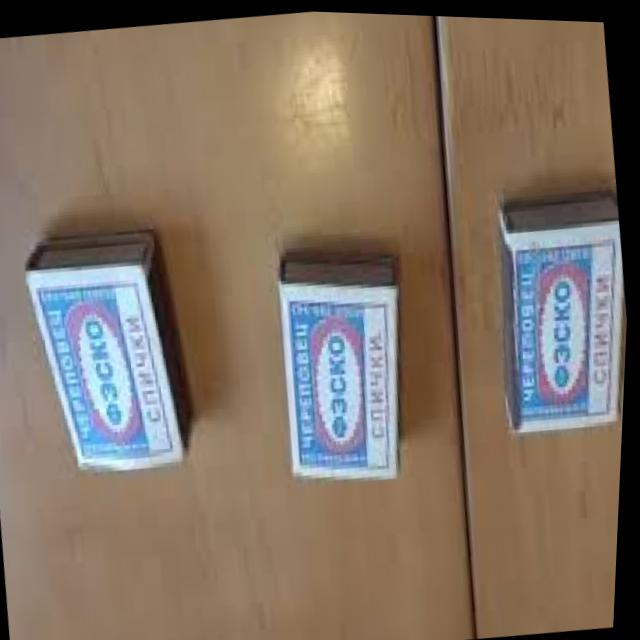match: (12, 209, 213, 488), (264, 233, 427, 492), (481, 178, 634, 442)
